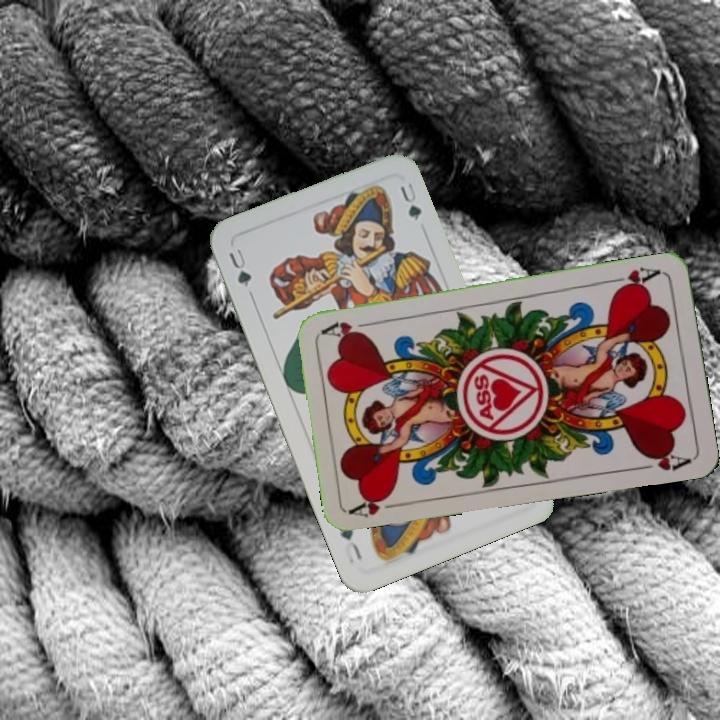GU: (224, 244, 254, 290)
HA: (606, 263, 665, 295), (347, 489, 406, 520)
